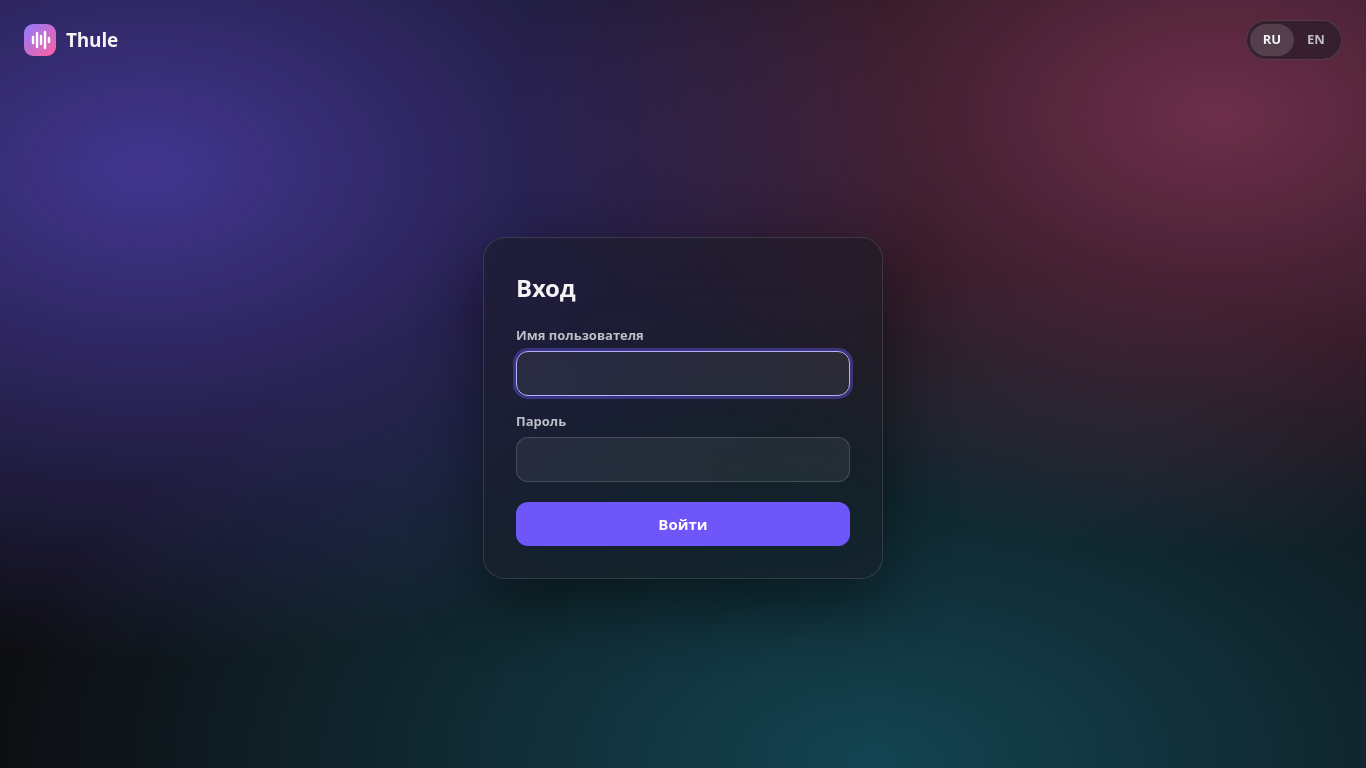
Test: a wrong password is reported in the user's language
Type "ada" into the field labelled "Имя пользователя" at (683, 374), box x1=516 y1=351 x2=850 y2=396
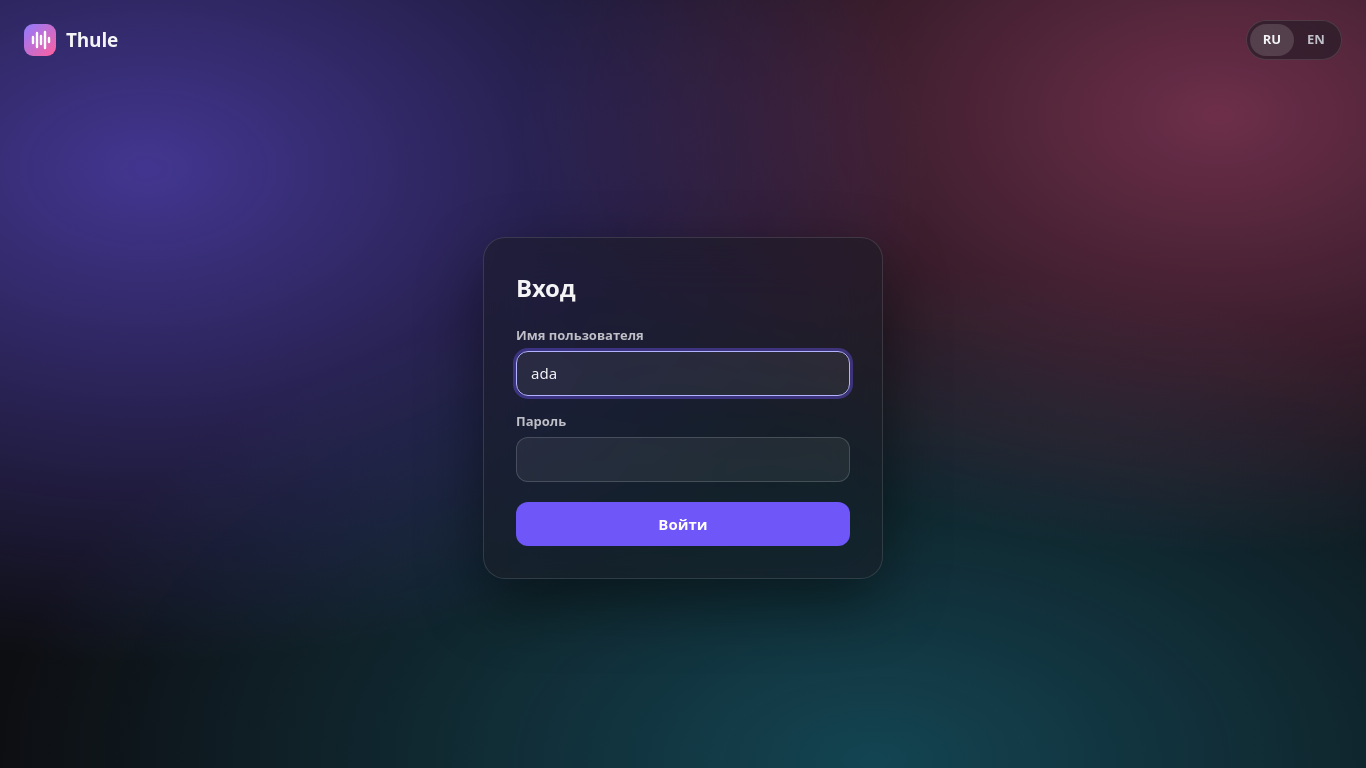
Type "wrong-password" into the password field labelled "Пароль" at (683, 460), box x1=516 y1=437 x2=850 y2=482
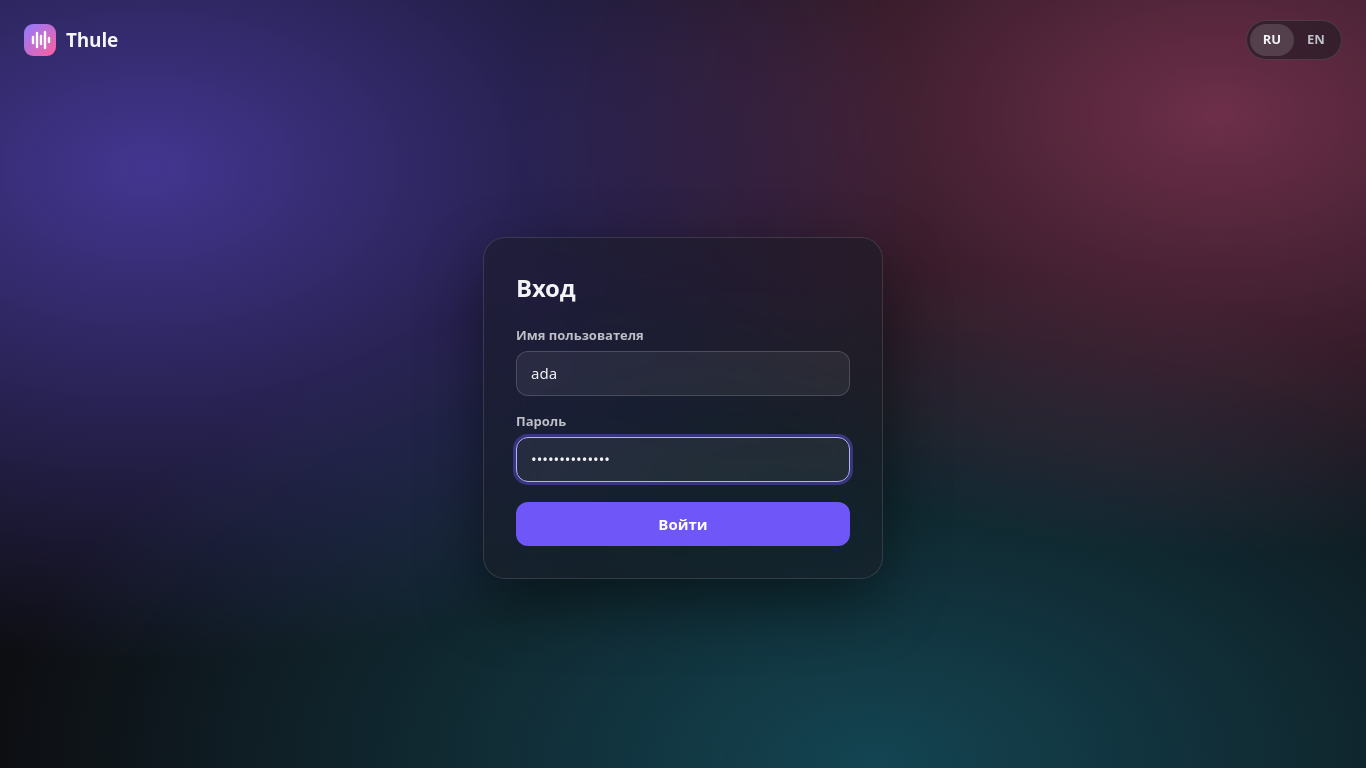
Click the button "Войти" at (683, 524), box x1=516 y1=502 x2=850 y2=546
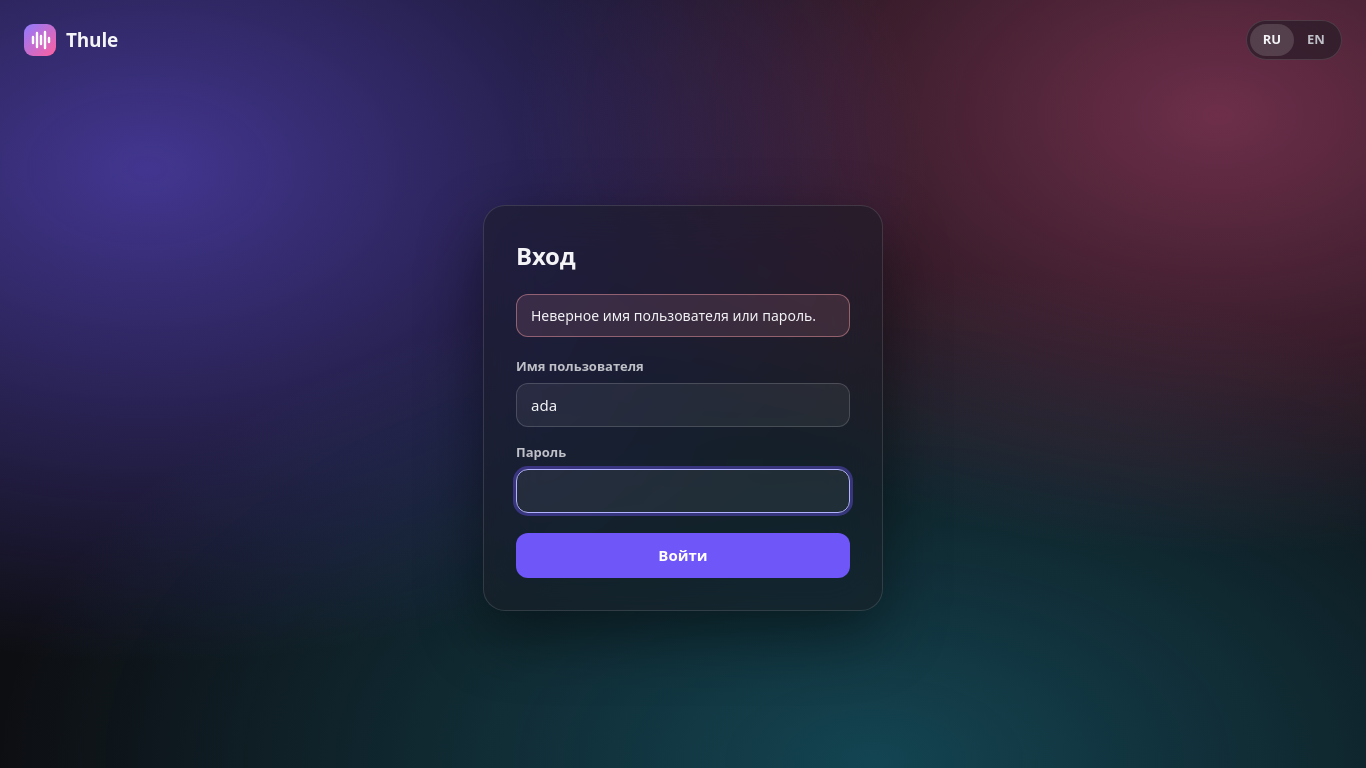
Result: the message reads "Неверное имя пользователя или пароль." at x1=531 y1=306 x2=816 y2=325
Result: the password field labelled "Пароль" is empty at x1=516 y1=469 x2=850 y2=513
